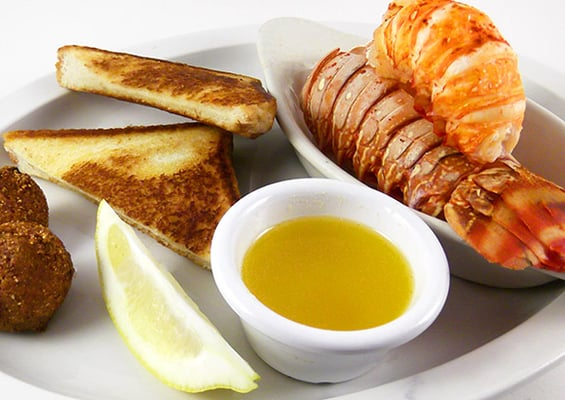soup: (2, 124, 243, 269), (52, 46, 278, 139)
sushi: (209, 177, 451, 385)
taco: (93, 198, 262, 393)
